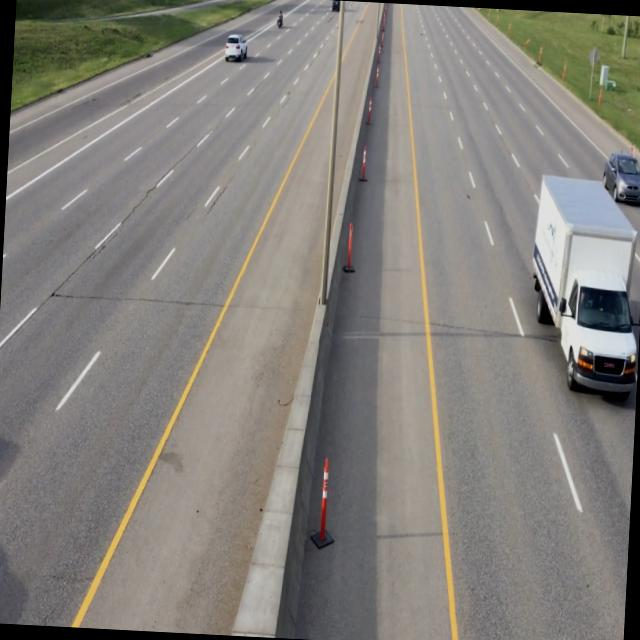Vehicle: (524, 170, 640, 400), (603, 147, 640, 207), (224, 28, 248, 66)
